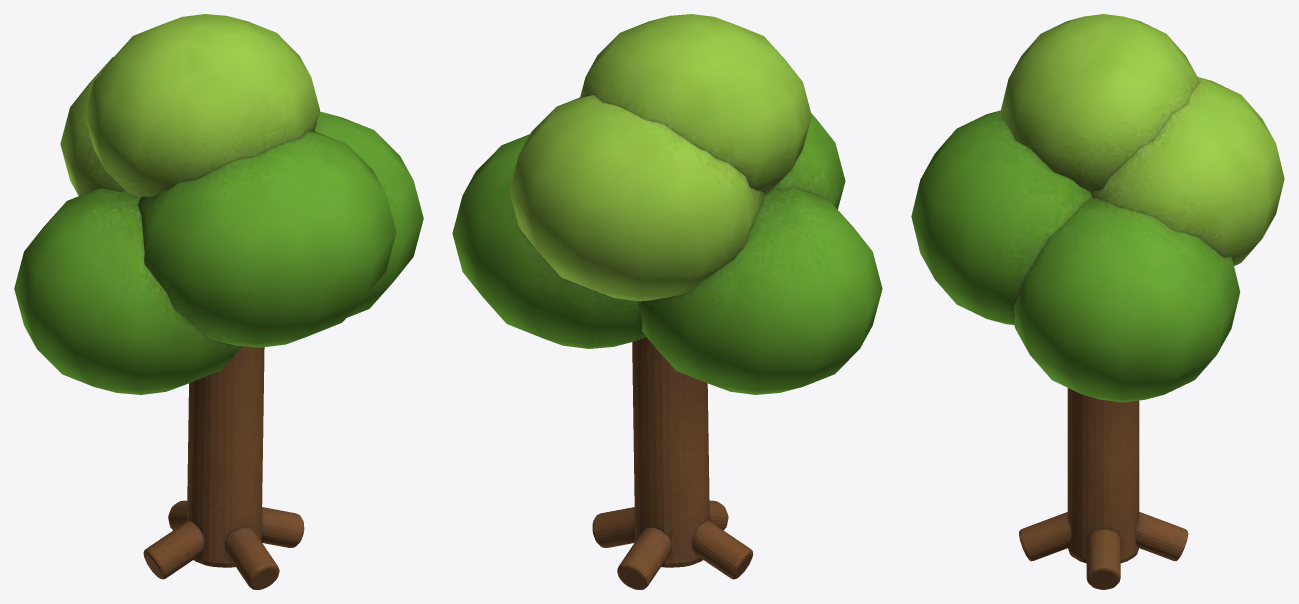
Rendered from wood.glb.
3 views of the same model, side by side, from view 1: azimuth 30°, elevation 25°; view 2: azimuth 150°, elevation 25°; view 3: azimuth 270°, elevation 25° (orthographic). The views are drawn at different scales.
Visible parts, largest first — view 1: Canopy; view 2: Canopy; view 3: Canopy.
Part boxes in pixels (x1,y1,x2,y2): Canopy: (14, 14, 423, 589); Canopy: (452, 14, 882, 589); Canopy: (911, 14, 1284, 589).
Bounding box in the file's own units: 2.2 × 2.91 × 1.88.
1 material, 1 textured.
